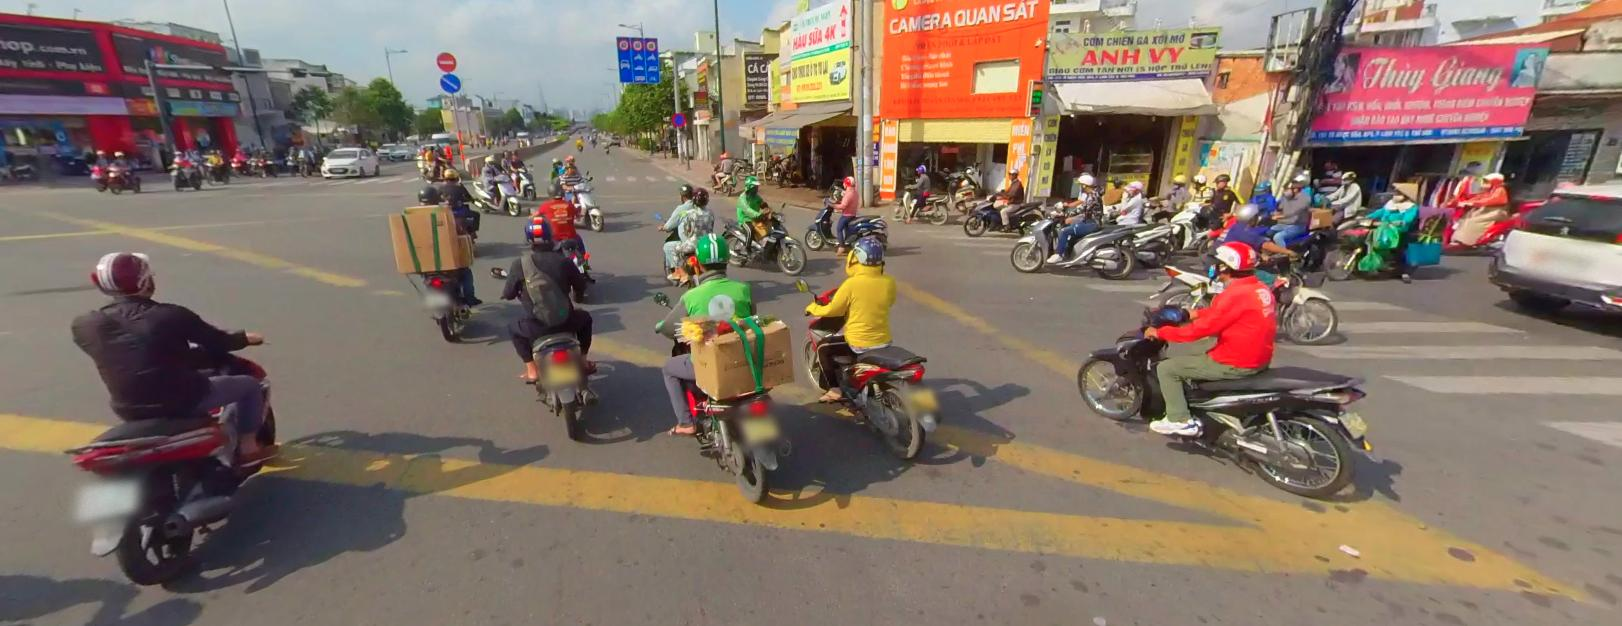Cam dung va do: (672, 111, 686, 126)
Cam nguoc chieu: (435, 51, 457, 72)
Gioi han toc do: (645, 38, 656, 49), (631, 39, 642, 49), (619, 39, 628, 49)
Hieu lenh: (439, 72, 461, 92)
